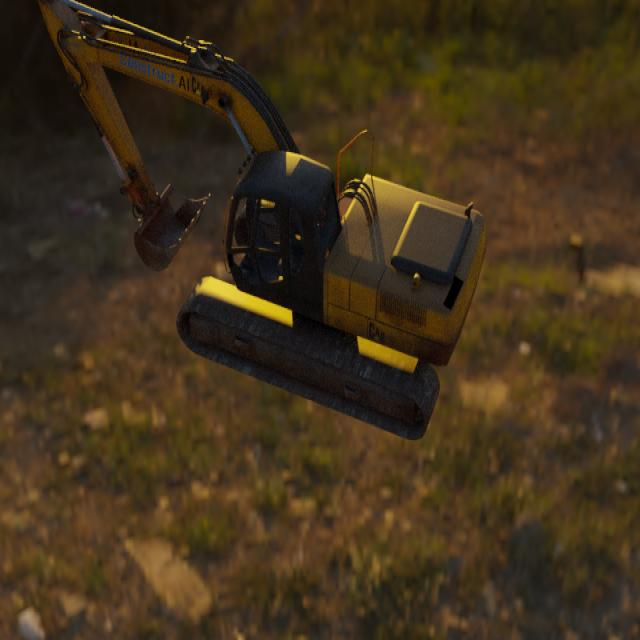excavator: (37, 0, 486, 441)
